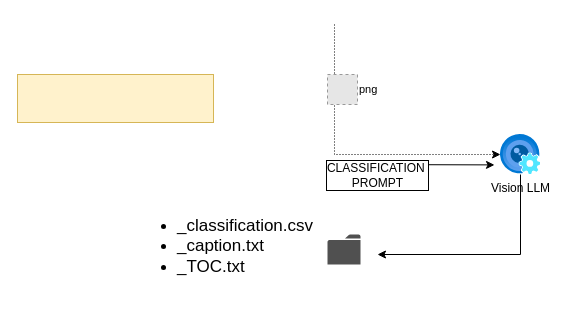
The diagram is 567 pixels wide and 312 high, and some of its shapes have lost their labels. Grey dashed boxes stand in for pictures. Here are the shapes that lost their labels. From the top down, the centre of each, then its label:
At pixel 115 98: "Step 2 - Page Classification".
At pixel 343 249: "/metadata".
